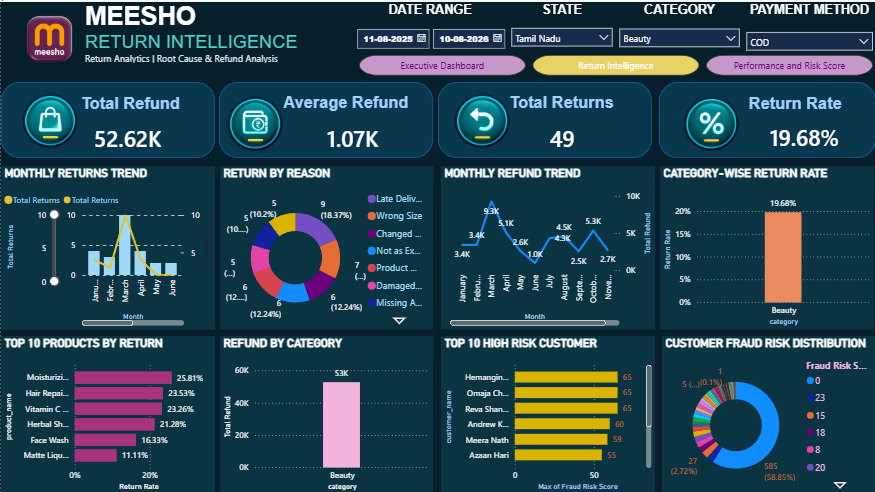

This screenshot's page, from the dashboard's own definition file:
{"tool":"powerbi","page":{"name":"Return Intelligence","canvas":[1280,720],"ordinal":1},"visuals":[{"type":"textbox","box":[122.5,0,532.5,88.8],"z":0},{"type":"image","box":[0,0,142,108.3],"z":1000},{"type":"slicer","title":"DATE RANGE","fields":{"Values":["meesho_project orders.order_date"]},"box":[514.3,0,228.6,77.1],"z":2000},{"type":"slicer","title":"STATE","fields":{"Values":["meesho_project customers.state"]},"box":[742.6,0,158,71.7],"z":3000},{"type":"slicer","title":"PAYMENT METHOD","fields":{"Values":["meesho_project orders.payment_method"]},"box":[1085.4,0,194.6,71.7],"z":4000},{"type":"slicer","title":"CATEGORY","fields":{"Values":["meesho_project products.category"]},"box":[900.3,0,185.9,74.6],"z":5000},{"type":"shape","box":[0,117.1,313.2,111.2],"z":6000},{"type":"textbox","box":[68.6,130,241.4,38.6],"z":7000},{"type":"cardVisual","fields":{"Data":["Measures (2).Total Refund"]},"box":[122.9,172.7,125.9,49.8],"z":8000},{"type":"shape","box":[319,117.1,313.2,111.2],"z":9000},{"type":"shape","box":[639.5,117.1,313.2,111.2],"z":14000},{"type":"shape","box":[962.9,117.1,317.1,111.4],"z":15000},{"type":"cardVisual","fields":{"Data":["Measures (2).Return Rate"]},"box":[1117.1,171.4,118.6,50],"z":16000},{"type":"cardVisual","fields":{"Data":["Measures (2).Total Returns"]},"box":[775.7,172.9,91.4,50],"z":17000},{"type":"cardVisual","fields":{"Data":["Measures (2).Average Refund"]},"box":[450,172.9,128.6,50],"z":18000},{"type":"textbox","box":[705.7,128.6,230,41.4],"z":28000},{"type":"textbox","box":[1062.9,130,200,41.4],"z":29000},{"type":"image","box":[10,130,122.9,87.1],"z":30000},{"type":"image","box":[979,134.6,122.9,87.1],"z":31000},{"type":"image","box":[643.9,130.2,122.9,87.1],"z":36000},{"type":"lineClusteredColumnComboChart","title":"MONTHLY RETURNS TREND","fields":{"Category":["meesho_project returns.return_date.Variation.Date Hierarchy.Month"],"Y":["Measures (2).Total Returns"],"Y2":["Measures (2).Total Returns"]},"box":[0,240,313.2,238.5],"z":38000},{"type":"donutChart","title":"RETURN BY REASON","fields":{"Category":["meesho_project returns.return_reason"],"Y":["Measures (2).Total Returns"]},"box":[320.5,240,311.7,238.5],"z":39000},{"type":"lineChart","title":"MONTHLY REFUND TREND","fields":{"Category":["meesho_project returns.return_date.Variation.Date Hierarchy.Month"],"Y2":["Measures (2).Total Refund"]},"box":[643.9,240,313.2,238.5],"z":40000},{"type":"donutChart","title":"CUSTOMER FRAUD RISK DISTRIBUTION","fields":{"Category":["meesho_project customers.Fraud Risk Score"],"Y":["Count(meesho_project customers.customer_id)"]},"box":[967.3,488.8,313.2,231.2],"z":41000},{"type":"clusteredBarChart","title":"TOP 10 PRODUCTS BY RETURN ","fields":{"Category":["meesho_project products.product_name"],"Y":["Measures (2).Return Rate"]},"box":[0,488.8,313.2,231.2],"z":42000},{"type":"clusteredColumnChart","title":"REFUND BY CATEGORY","fields":{"Category":["meesho_project products.category"],"Y":["Measures (2).Total Refund"]},"box":[320.5,488.8,311.7,231.2],"z":43000},{"type":"clusteredBarChart","title":"TOP 10 HIGH RISK CUSTOMER","fields":{"Category":["meesho_project customers.customer_name"],"Y":["Max(meesho_project customers.Fraud Risk Score)"]},"box":[643.9,488.8,313.2,231.2],"z":44000},{"type":"clusteredColumnChart","title":"CATEGORY-WISE RETURN RATE","fields":{"Category":["meesho_project products.category"],"Y":["Measures (2).Return Rate"]},"box":[964.4,240,313.2,238.5],"z":45000},{"type":"textbox","box":[389.3,128.8,231.2,38],"z":45001},{"type":"image","box":[310.2,134.6,122.9,87.1],"z":45002},{"type":"pageNavigator","box":[523.9,77.6,753.7,30.7],"z":45003}]}

Visuals, with their boxes in screenshot pixels (x1, y1, x2, y2), scaled from the page's 1280x720 canvas onto the 875x492 screenshot:
textbox: region(84, 0, 448, 61)
image: region(0, 0, 97, 74)
"DATE RANGE" slicer: region(352, 0, 508, 53)
"STATE" slicer: region(508, 0, 616, 49)
"PAYMENT METHOD" slicer: region(742, 0, 874, 49)
"CATEGORY" slicer: region(615, 0, 743, 51)
shape: region(0, 80, 214, 156)
textbox: region(47, 89, 212, 115)
cardVisual - Measures (2).Total Refund: region(84, 118, 170, 152)
shape: region(218, 80, 432, 156)
shape: region(437, 80, 651, 156)
shape: region(658, 80, 874, 156)
cardVisual - Measures (2).Return Rate: region(764, 117, 845, 151)
cardVisual - Measures (2).Total Returns: region(530, 118, 593, 152)
cardVisual - Measures (2).Average Refund: region(308, 118, 396, 152)
textbox: region(482, 88, 640, 116)
textbox: region(727, 89, 863, 117)
image: region(7, 89, 91, 148)
image: region(669, 92, 753, 151)
image: region(440, 89, 524, 148)
"MONTHLY RETURNS TREND" lineClusteredColumnComboChart: region(0, 164, 214, 327)
"RETURN BY REASON" donutChart: region(219, 164, 432, 327)
"MONTHLY REFUND TREND" lineChart: region(440, 164, 654, 327)
"CUSTOMER FRAUD RISK DISTRIBUTION" donutChart: region(661, 334, 874, 491)
"TOP 10 PRODUCTS BY RETURN " clusteredBarChart: region(0, 334, 214, 491)
"REFUND BY CATEGORY" clusteredColumnChart: region(219, 334, 432, 491)
"TOP 10 HIGH RISK CUSTOMER" clusteredBarChart: region(440, 334, 654, 491)
"CATEGORY-WISE RETURN RATE" clusteredColumnChart: region(659, 164, 873, 327)
textbox: region(266, 88, 424, 114)
image: region(212, 92, 296, 151)
pageNavigator: region(358, 53, 873, 74)
